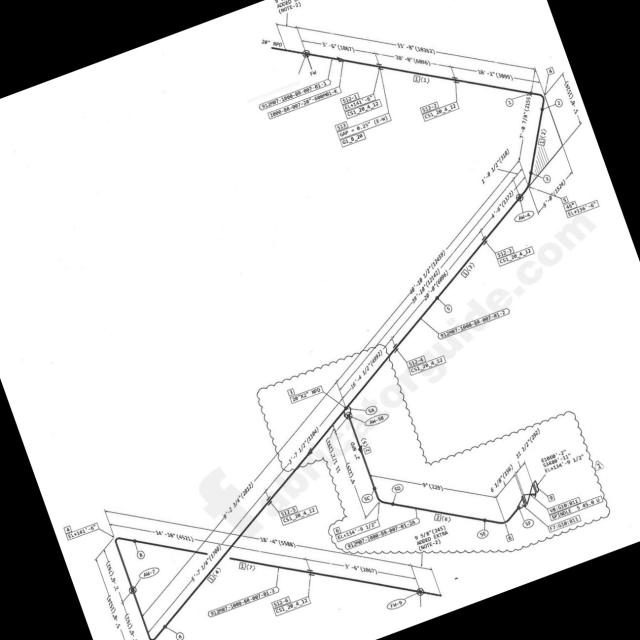Item number: (270, 593, 292, 615), (419, 99, 439, 119), (340, 91, 360, 107), (504, 95, 515, 108)
Measrement: (209, 178, 503, 539), (297, 22, 539, 74), (338, 298, 427, 402), (176, 524, 238, 595), (95, 545, 129, 639), (106, 515, 206, 545), (336, 432, 365, 508), (298, 32, 379, 55), (374, 46, 455, 69), (452, 61, 536, 82), (536, 169, 572, 214), (100, 541, 123, 601), (563, 68, 582, 124), (517, 92, 531, 155), (121, 592, 137, 639)
Pipeline: (196, 118, 536, 595)
Symbol: (485, 489, 521, 527), (515, 166, 537, 204), (529, 77, 553, 111), (515, 486, 533, 511), (367, 475, 382, 505), (528, 477, 541, 497), (342, 402, 353, 421)
Weld number: (140, 564, 162, 578)
other: (490, 424, 544, 491), (254, 75, 332, 112), (547, 490, 609, 534), (335, 107, 395, 150), (206, 581, 279, 616), (439, 304, 512, 339), (348, 514, 421, 546), (479, 144, 510, 183), (279, 500, 319, 527), (408, 350, 447, 376), (496, 241, 535, 267), (272, 593, 312, 616), (339, 517, 379, 540), (566, 195, 600, 219), (66, 518, 101, 540), (289, 382, 324, 403)
